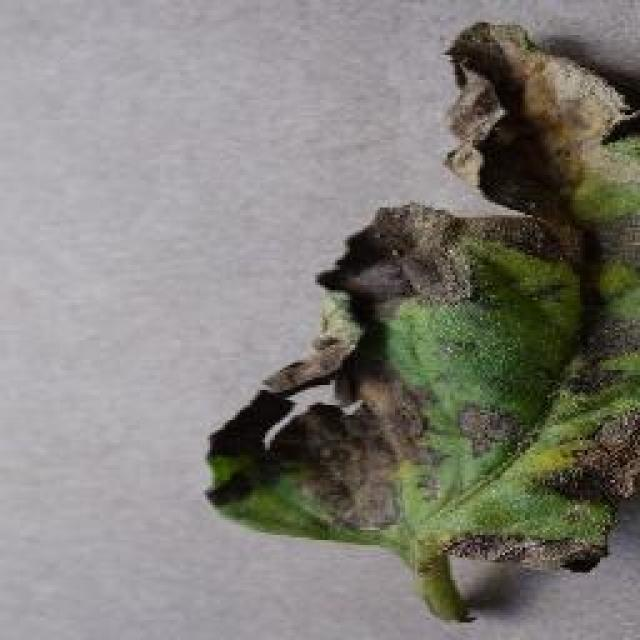Tomato Early blight leaf: (205, 20, 640, 576)
